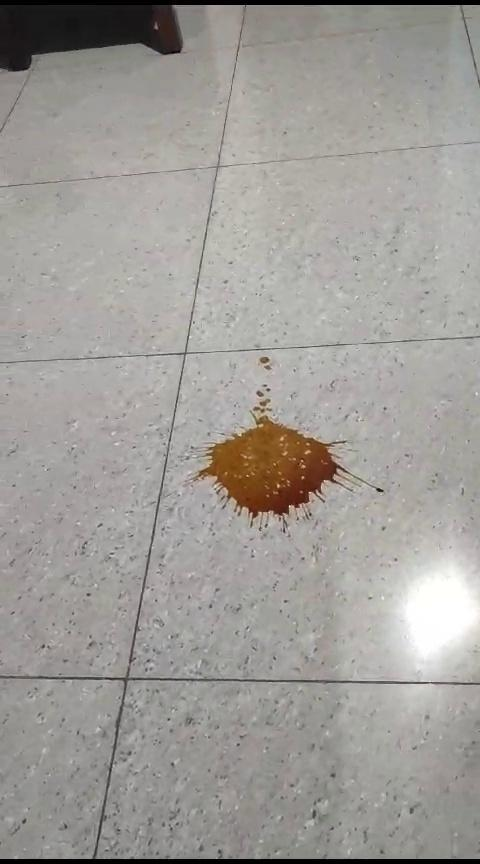dirty_floor: (191, 356, 382, 532)
